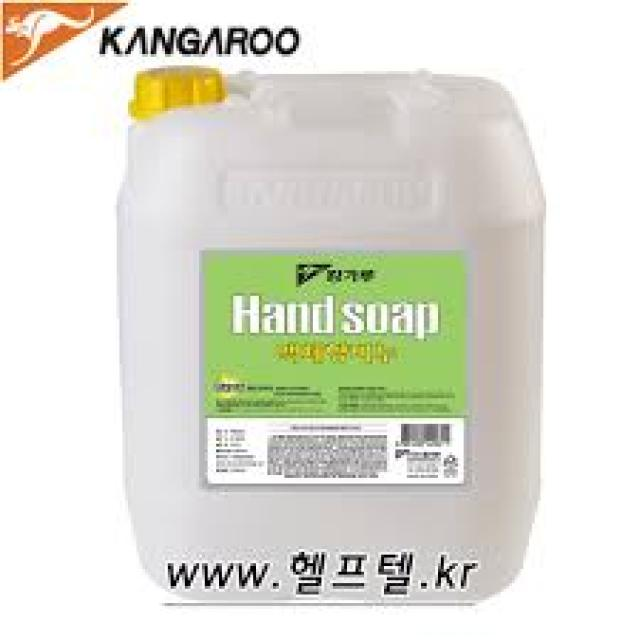liquid soap: (111, 57, 555, 609)
